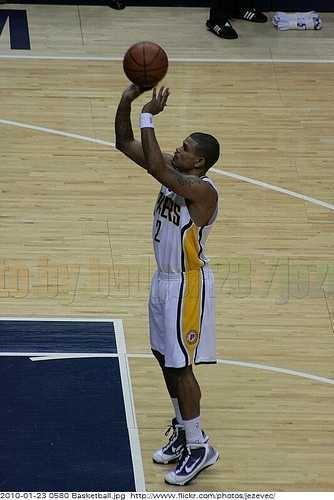ball: (122, 40, 170, 90)
human: (118, 72, 228, 487)
